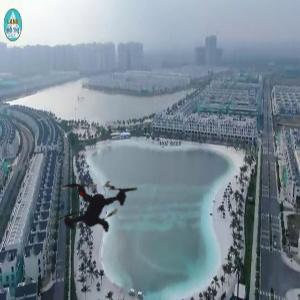drone: (29, 140, 161, 272)
